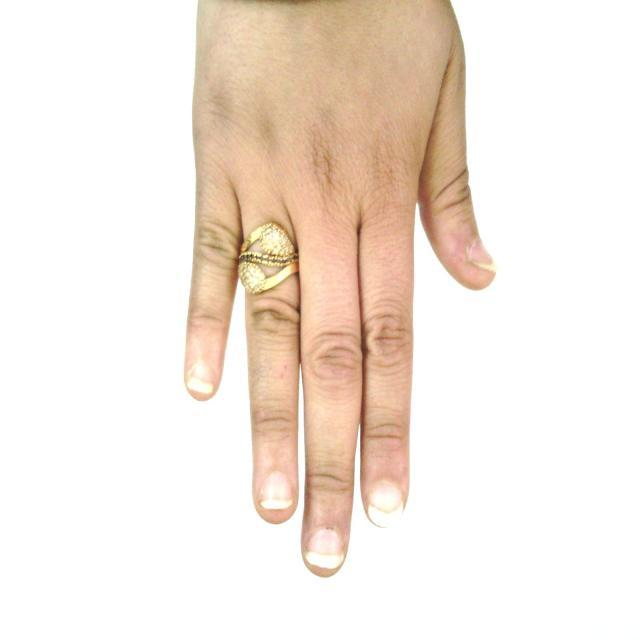Fingernail: (369, 483, 402, 526), (307, 529, 343, 568), (260, 473, 293, 508), (469, 240, 496, 270), (188, 363, 213, 393)
